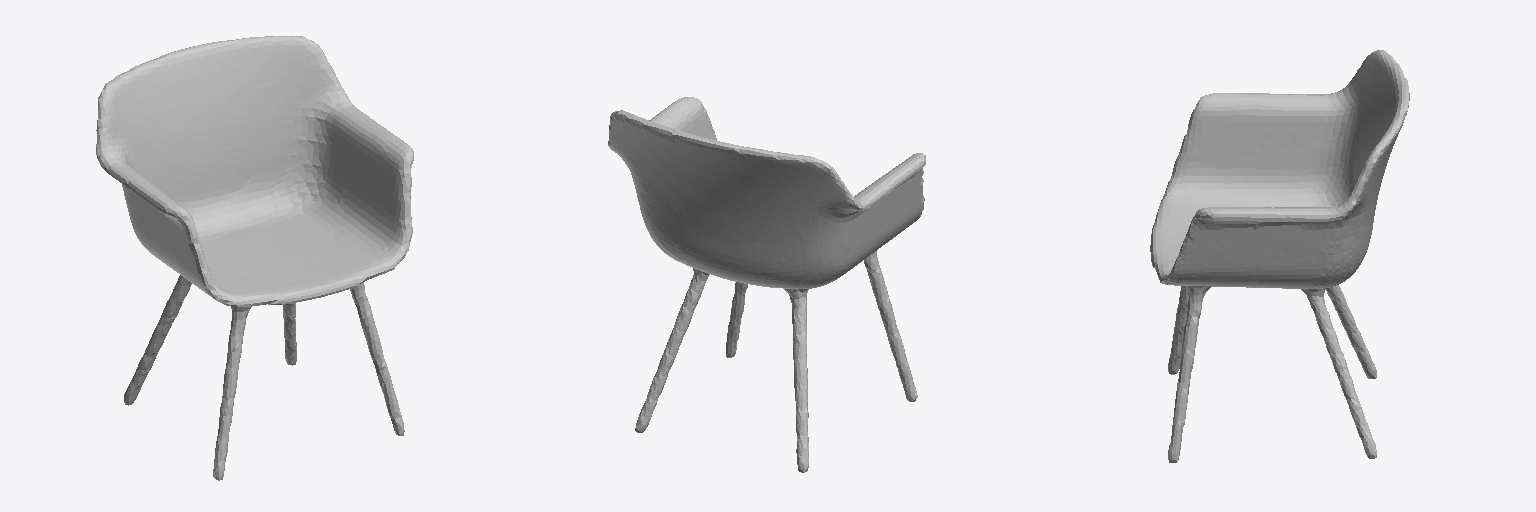
The model's file is uvmapped_v2.obj.
The picture shows the model from 3 angles: view 1: azimuth 30°, elevation 25°; view 2: azimuth 150°, elevation 25°; view 3: azimuth 270°, elevation 25°; orthographic projection.
Visible parts, largest first — view 1: back_single_surface, arm_sofa_style, seat_single_surface, leg; view 2: back_single_surface, arm_sofa_style, leg; view 3: arm_sofa_style, back_single_surface, leg, seat_single_surface.
Boxes of the visible parts, <box> form: back_single_surface: <box>96,36,349,220</box>; arm_sofa_style: <box>102,101,413,301</box>; seat_single_surface: <box>194,197,402,306</box>; leg: <box>124,275,404,480</box>; back_single_surface: <box>608,110,864,288</box>; arm_sofa_style: <box>649,97,925,283</box>; leg: <box>635,251,917,472</box>; arm_sofa_style: <box>1165,92,1343,288</box>; back_single_surface: <box>1320,50,1409,281</box>; leg: <box>1168,285,1376,462</box>; seat_single_surface: <box>1150,130,1345,288</box>.
Bounding box in the file's own units: 1.06 × 1.32 × 0.9559.